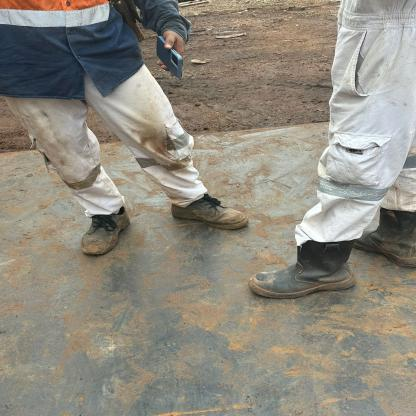bota: (248, 235, 353, 295), (355, 206, 416, 268), (68, 203, 132, 256), (162, 190, 248, 228)
